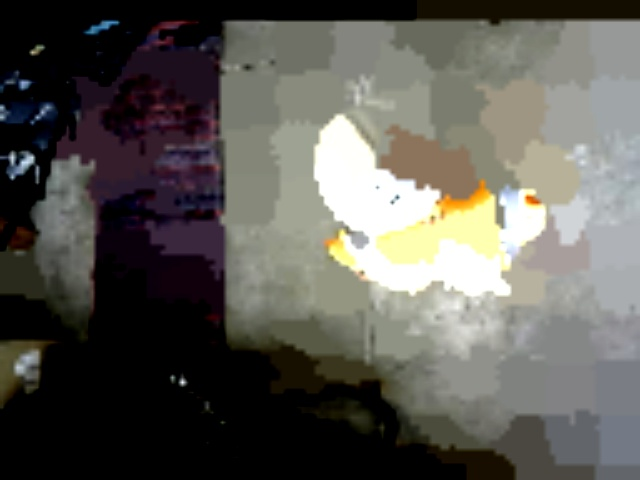three: (352, 167, 400, 207)
